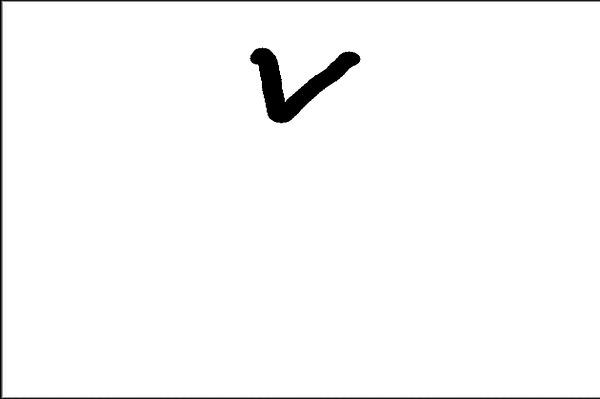V: (245, 28, 366, 127)
